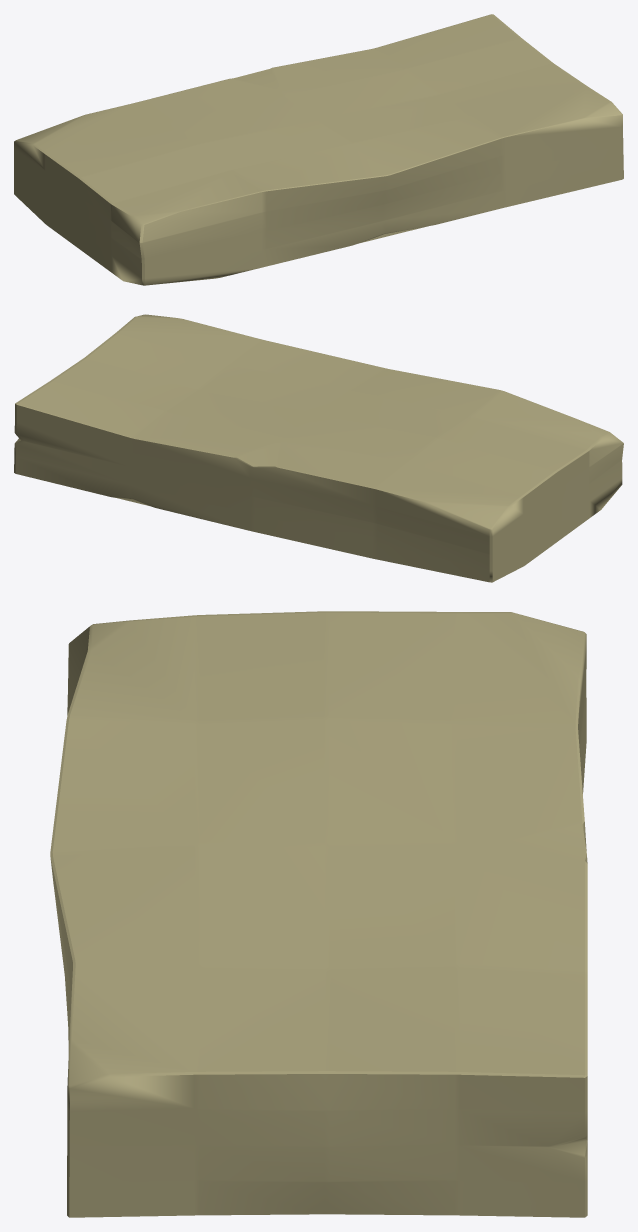
The model's file is Plate 1.fbx.
The picture shows the model from 3 angles, top to bottom: view 1: azimuth 30°, elevation 25°; view 2: azimuth 150°, elevation 25°; view 3: azimuth 270°, elevation 25°; orthographic projection. The views are drawn at different scales.
Visible parts, largest first — view 1: Plate; view 2: Plate; view 3: Plate.
Part boxes in pixels (<box>): Plate: <box>14,14,623,285</box>; Plate: <box>14,314,623,582</box>; Plate: <box>50,611,587,1217</box>.
Size of the model in its own units: 661 by 102 by 319.
